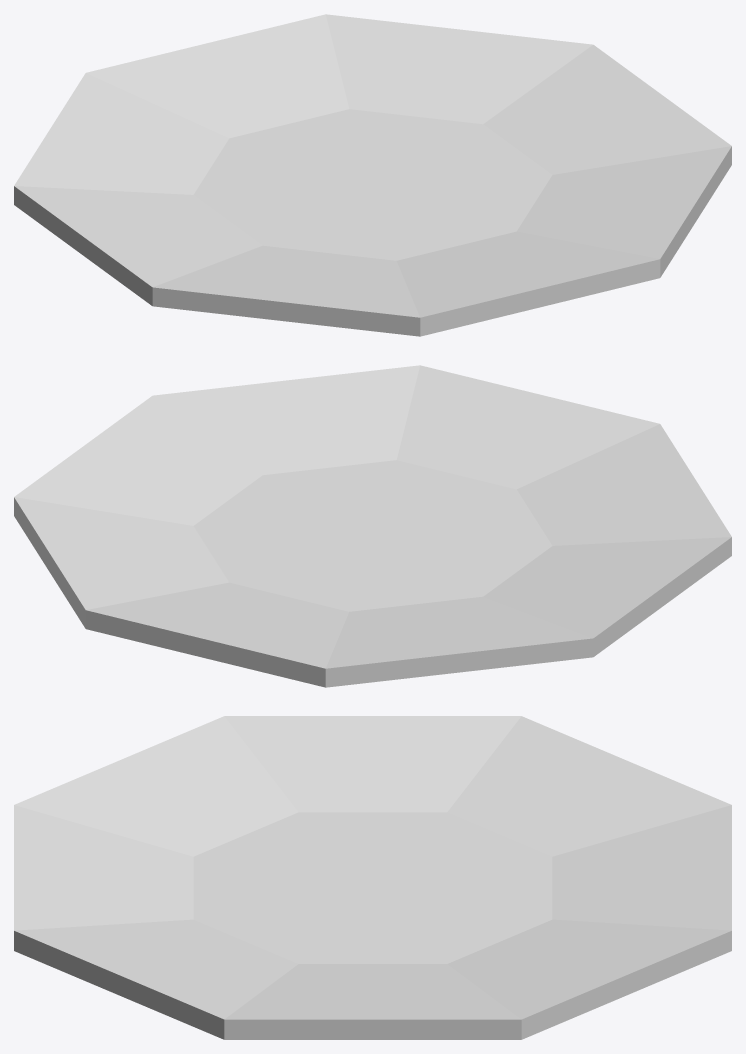
Rendered from plate.gltf.
3 renders of one model, top to bottom at view 1: azimuth 30°, elevation 25°; view 2: azimuth 150°, elevation 25°; view 3: azimuth 270°, elevation 25°, orthographic. The views are drawn at different scales.
Visible parts, largest first — view 1: cylinder; view 2: cylinder; view 3: cylinder.
Boxes of the visible parts, bbox=[...] form: cylinder: bbox=[14, 14, 731, 336]; cylinder: bbox=[14, 365, 731, 687]; cylinder: bbox=[14, 716, 731, 1039].
Bounding box in the file's own units: 1 × 0.0625 × 1.
1 material, 1 textured.
